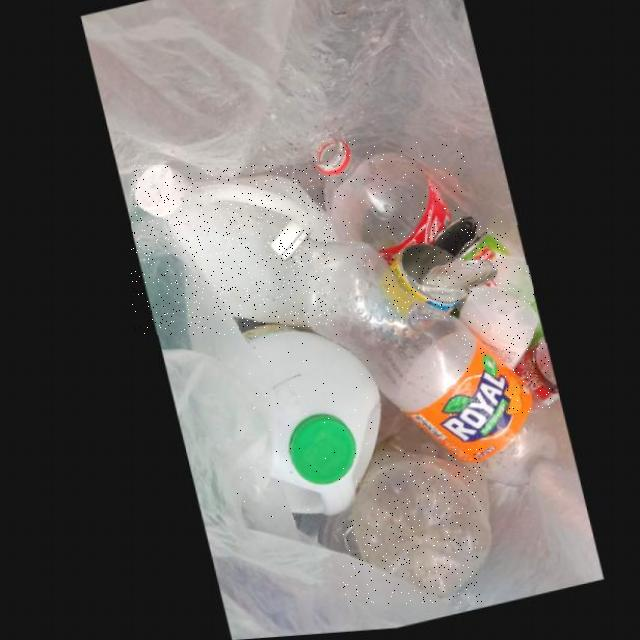metal: (387, 250, 493, 319), (432, 221, 507, 269)
plastic: (267, 225, 550, 493), (132, 166, 336, 335), (238, 328, 375, 520), (344, 448, 482, 604), (309, 140, 465, 271), (453, 265, 534, 377), (507, 343, 553, 413)
